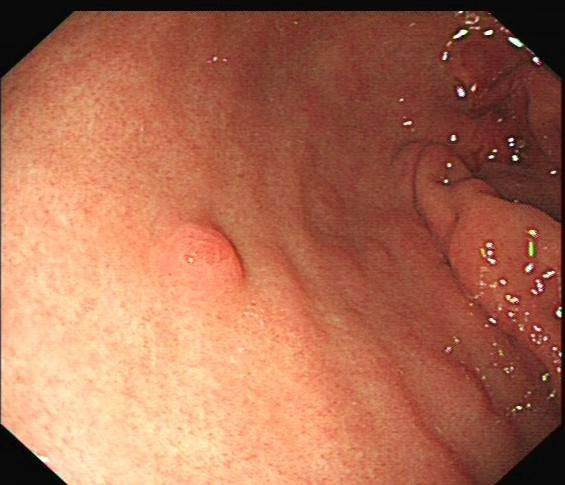Polyp: (162, 215, 249, 292)
